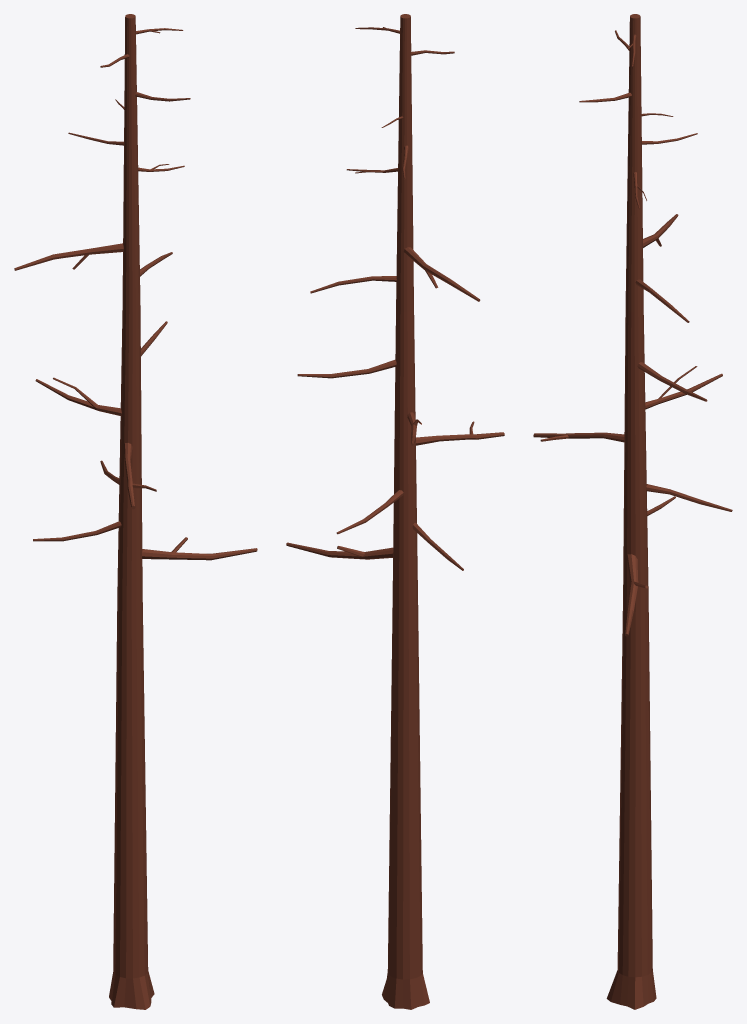
The model's file is pine_dead_type_1_LOD0_No_Armature.fbx.
The picture shows the model from 3 angles, left to right: view 1: azimuth 30°, elevation 25°; view 2: azimuth 150°, elevation 25°; view 3: azimuth 270°, elevation 25°; orthographic projection.
Visible parts, largest first — view 1: pine_trunk.003; view 2: pine_trunk.003; view 3: pine_trunk.003.
Part boxes in pixels (x1=…): pine_trunk.003: x1=14, y1=14, x2=257, y2=1009; pine_trunk.003: x1=286, y1=14, x2=504, y2=1009; pine_trunk.003: x1=533, y1=14, x2=732, y2=1009.
Size of the model in its own units: 665 by 2872 by 528.
